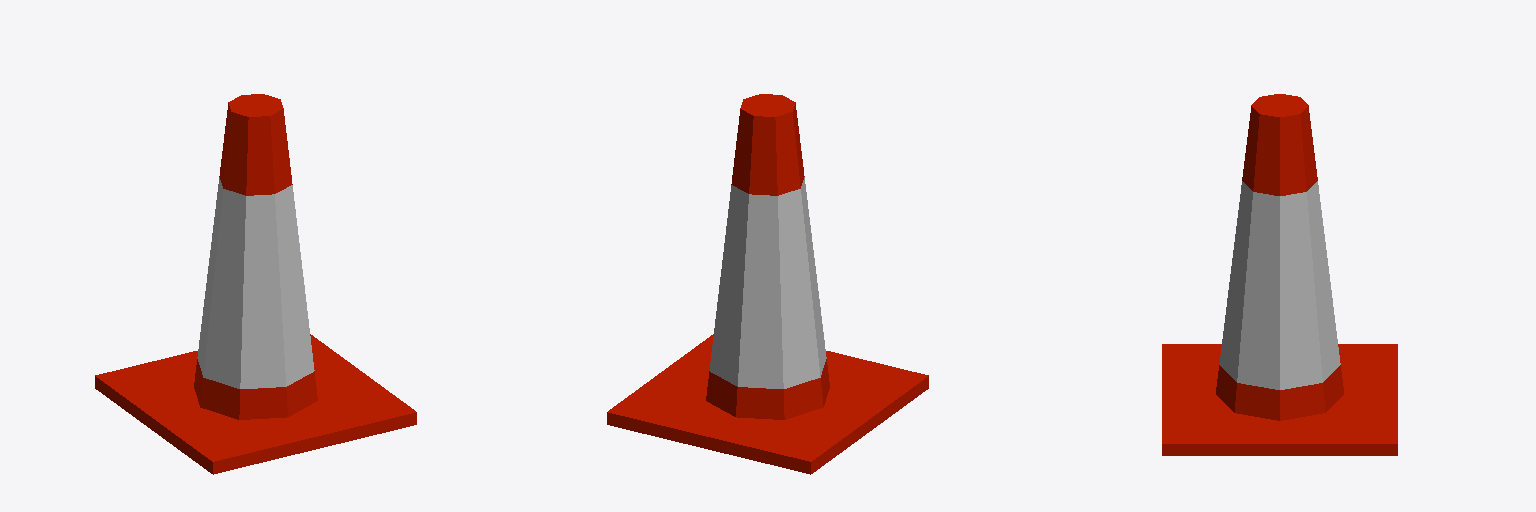
3 views of the same model, side by side, from view 1: azimuth 30°, elevation 25°; view 2: azimuth 150°, elevation 25°; view 3: azimuth 270°, elevation 25° (orthographic).
Parts seen in each view (by area): view 1: Cube.011_Cube.005; view 2: Cube.011_Cube.005; view 3: Cube.011_Cube.005.
Boxes of the visible parts, box(x1,y1,x2,y2) form: Cube.011_Cube.005: box(95, 94, 416, 474); Cube.011_Cube.005: box(607, 94, 928, 474); Cube.011_Cube.005: box(1162, 94, 1397, 455).
Bounding box in the file's own units: 1.9 × 2.67 × 1.9.